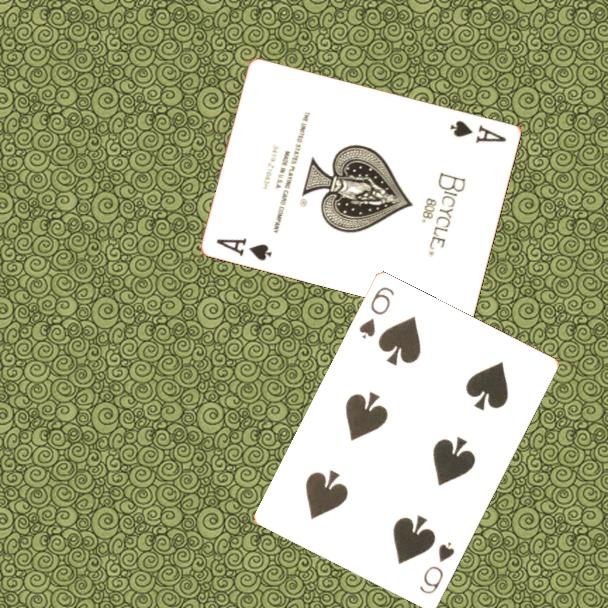s01: (447, 116, 510, 146), (213, 234, 275, 263)
s06: (416, 539, 458, 597), (355, 284, 397, 342)
